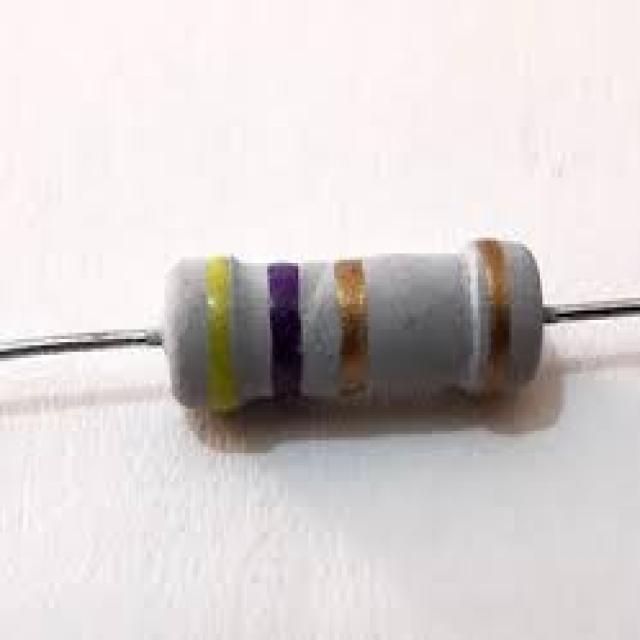Resistor: (151, 232, 558, 416)
